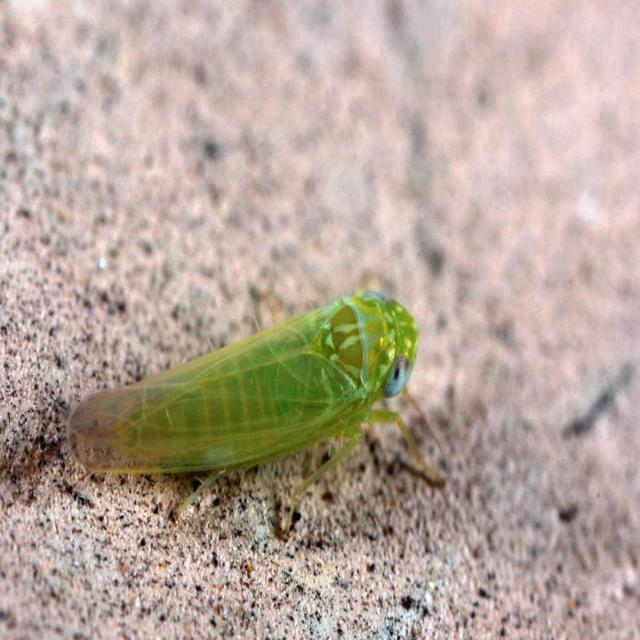Yechan: (59, 281, 428, 493)
